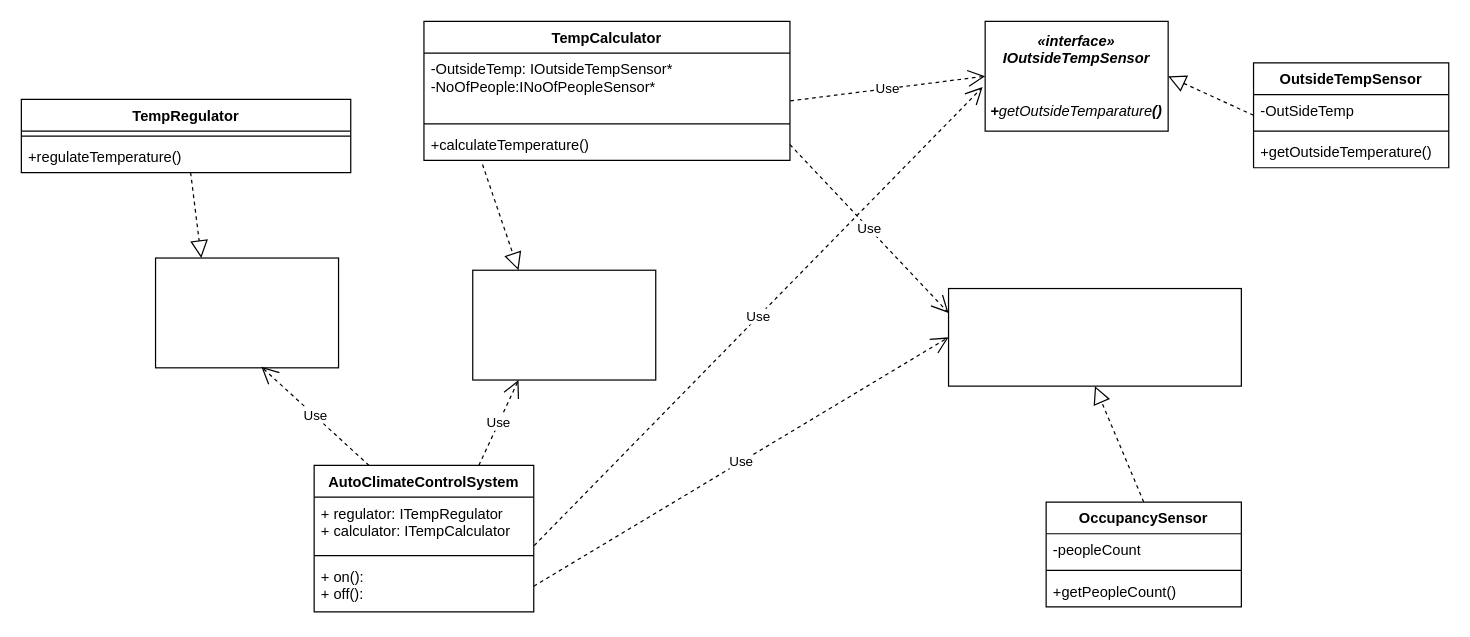
Some shapes in this 1470 by 637 pixel diagram are drawn without their labels. Each missing label, with the centre of its shape:
"«interface» IOccupancySensor + gePeopleCount ()" belongs at [1094,336].
"«interface» ITempCalculator + calculateTemparature ()" belongs at [564,324].
"«interface» ITempRegulator + regulateTemparature ()" belongs at [246,312].
